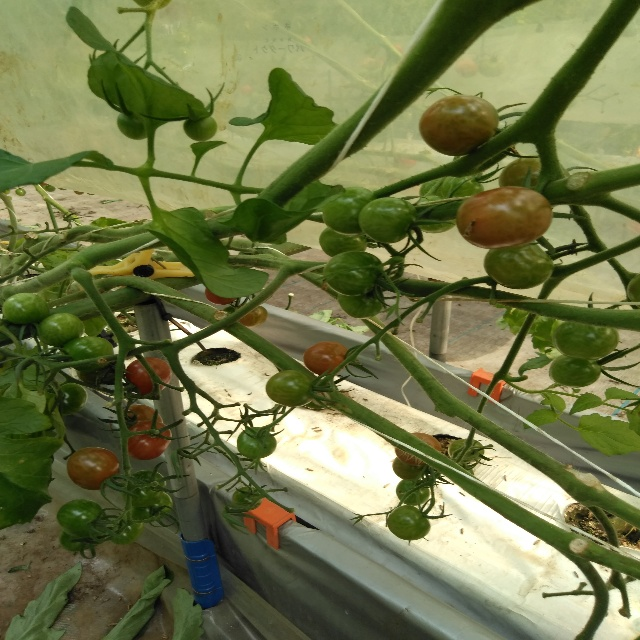l_fully_ripened: (125, 357, 171, 397), (128, 421, 172, 460), (205, 287, 237, 305)
l_green: (483, 240, 552, 289), (358, 197, 419, 244), (551, 320, 619, 360), (323, 251, 383, 296), (323, 187, 378, 236), (56, 499, 105, 538), (61, 336, 114, 372), (548, 354, 602, 388), (413, 195, 461, 233), (265, 370, 314, 407), (120, 470, 167, 507), (37, 313, 85, 347), (387, 505, 431, 541), (337, 286, 384, 319), (2, 292, 50, 324), (319, 227, 368, 258), (236, 427, 277, 459), (131, 492, 173, 522), (53, 382, 88, 416), (442, 175, 484, 202), (109, 515, 144, 545), (59, 530, 104, 552), (183, 115, 217, 143), (396, 479, 430, 505), (392, 456, 427, 481), (447, 439, 485, 462), (118, 112, 147, 140), (231, 486, 262, 511)
l_half_ripened: (456, 185, 553, 250), (419, 94, 499, 157), (67, 446, 120, 490), (395, 432, 441, 467), (303, 342, 349, 376), (498, 154, 541, 188), (123, 404, 163, 429), (236, 304, 268, 328)
